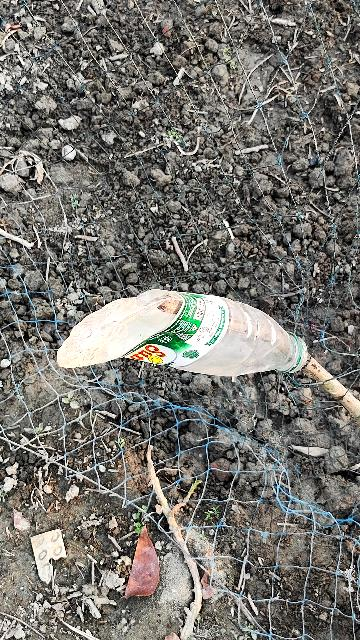bottle: (50, 286, 327, 382)
